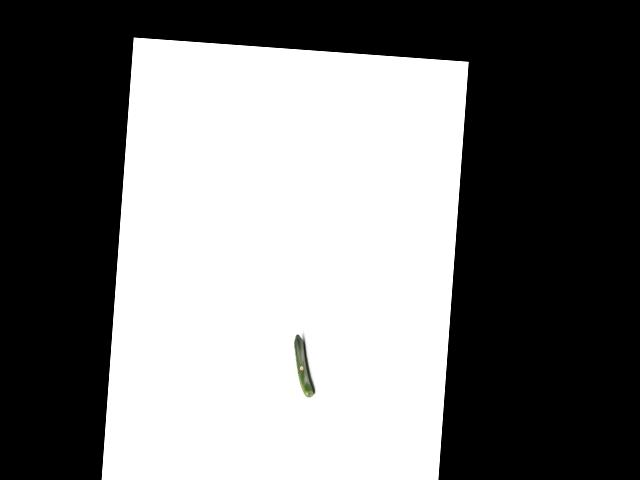cucumber: (290, 334, 318, 398)
